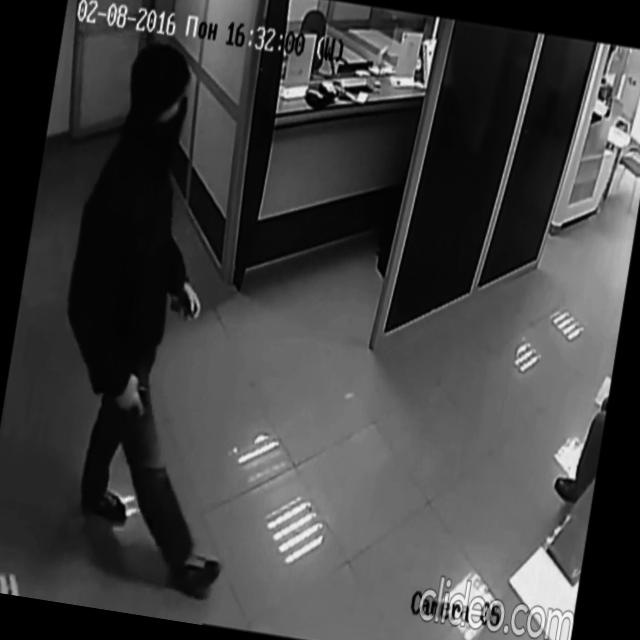gun: (129, 382, 152, 430)
person with a gun: (23, 32, 303, 601)
